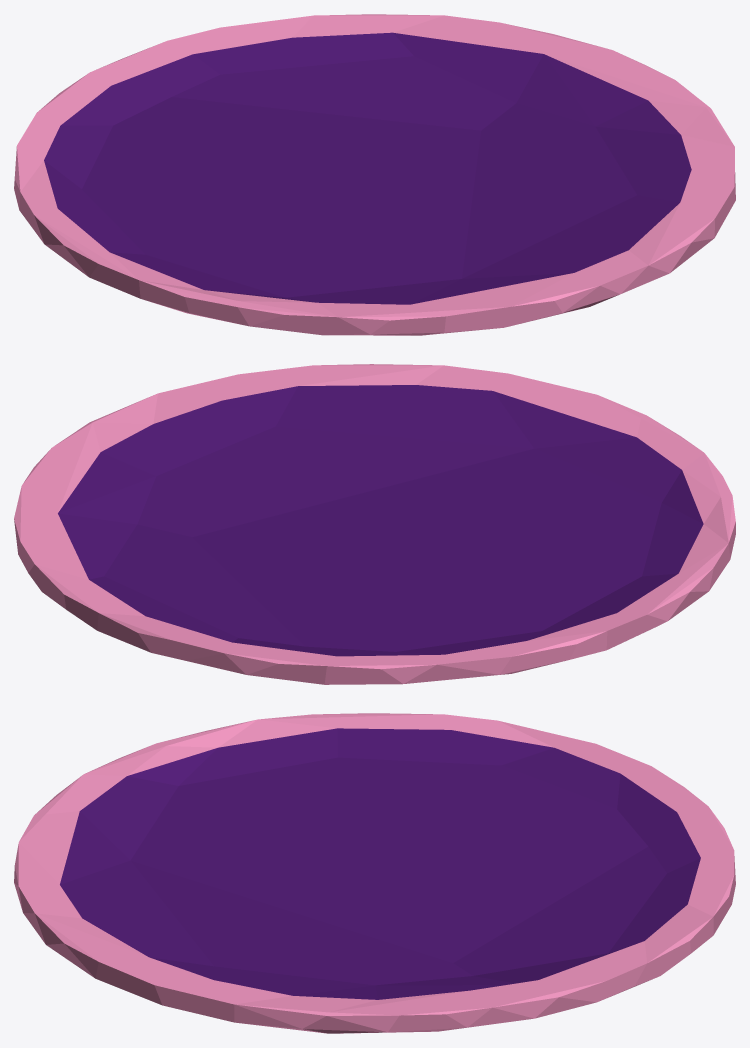
The model's file is PlateSmall.fbx.
The picture shows the model from 3 angles, top to bottom: view 1: azimuth 30°, elevation 25°; view 2: azimuth 150°, elevation 25°; view 3: azimuth 270°, elevation 25°; orthographic projection.
Visible parts, largest first — view 1: PlateSmallLowPoly; view 2: PlateSmallLowPoly; view 3: PlateSmallLowPoly.
Part boxes in pixels (bbox=[...]): PlateSmallLowPoly: bbox=[14, 14, 735, 335]; PlateSmallLowPoly: bbox=[14, 364, 735, 684]; PlateSmallLowPoly: bbox=[14, 713, 735, 1033].
Bounding box in the file's own units: 15.48 × 1.31 × 15.46.
